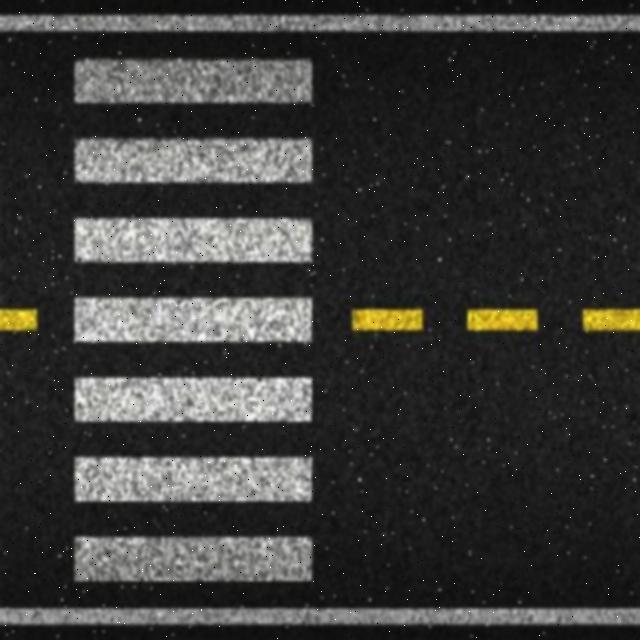crosswalk: (57, 34, 340, 608)
